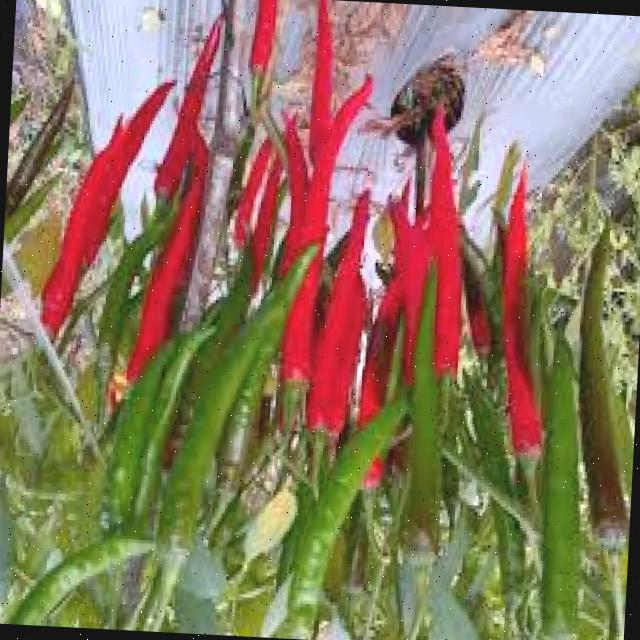healthy: (40, 0, 517, 633)
